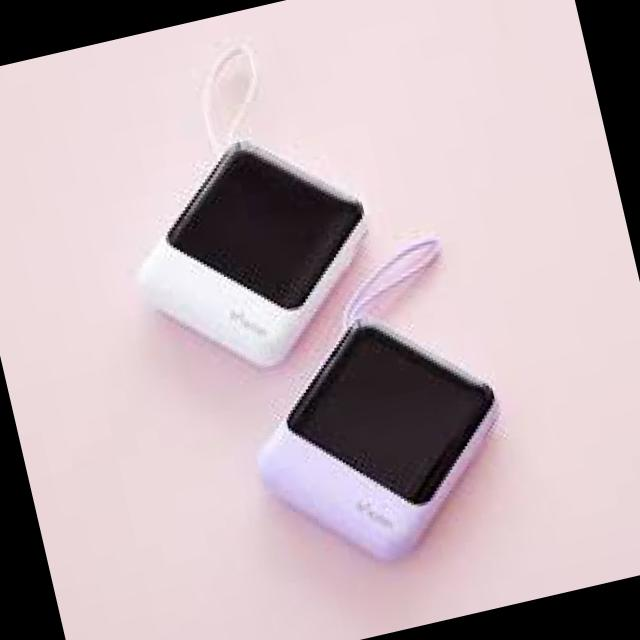power_bank: (230, 281, 542, 589), (106, 118, 398, 399)
